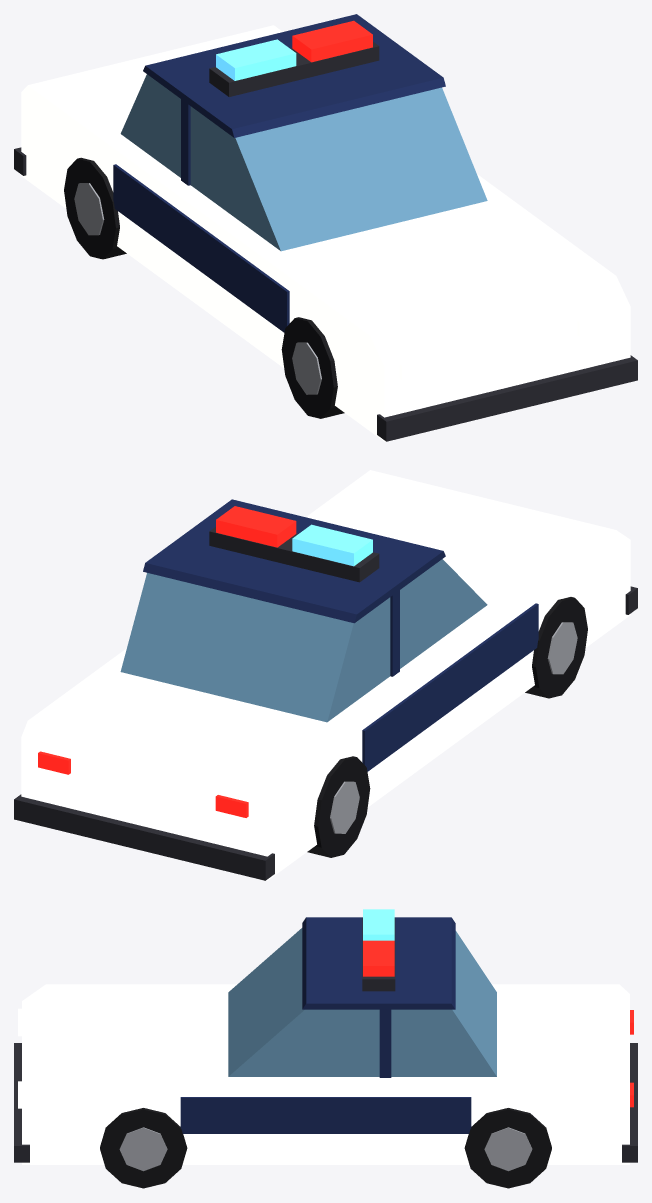
The model's file is car_police.glb.
3 renders of one model, top to bottom at view 1: azimuth 30°, elevation 25°; view 2: azimuth 150°, elevation 25°; view 3: azimuth 270°, elevation 25°, orthographic. The views are drawn at different scales.
Parts seen in each view (by area): view 1: car_police; view 2: car_police; view 3: car_police.
Part boxes in pixels (<box>): car_police: <box>14,14,637,441</box>; car_police: <box>14,470,637,880</box>; car_police: <box>14,909,637,1188</box>.
Bounding box in the file's own units: 1.88 × 1.66 × 4.72.
